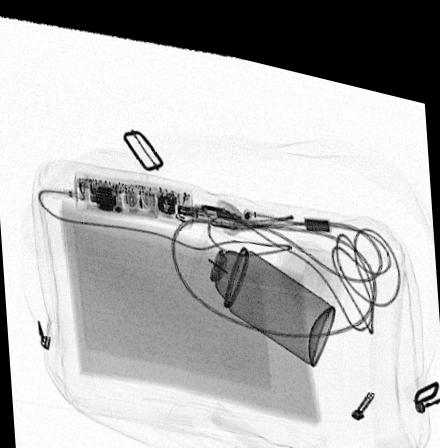Sprayer: (185, 213, 336, 353)
